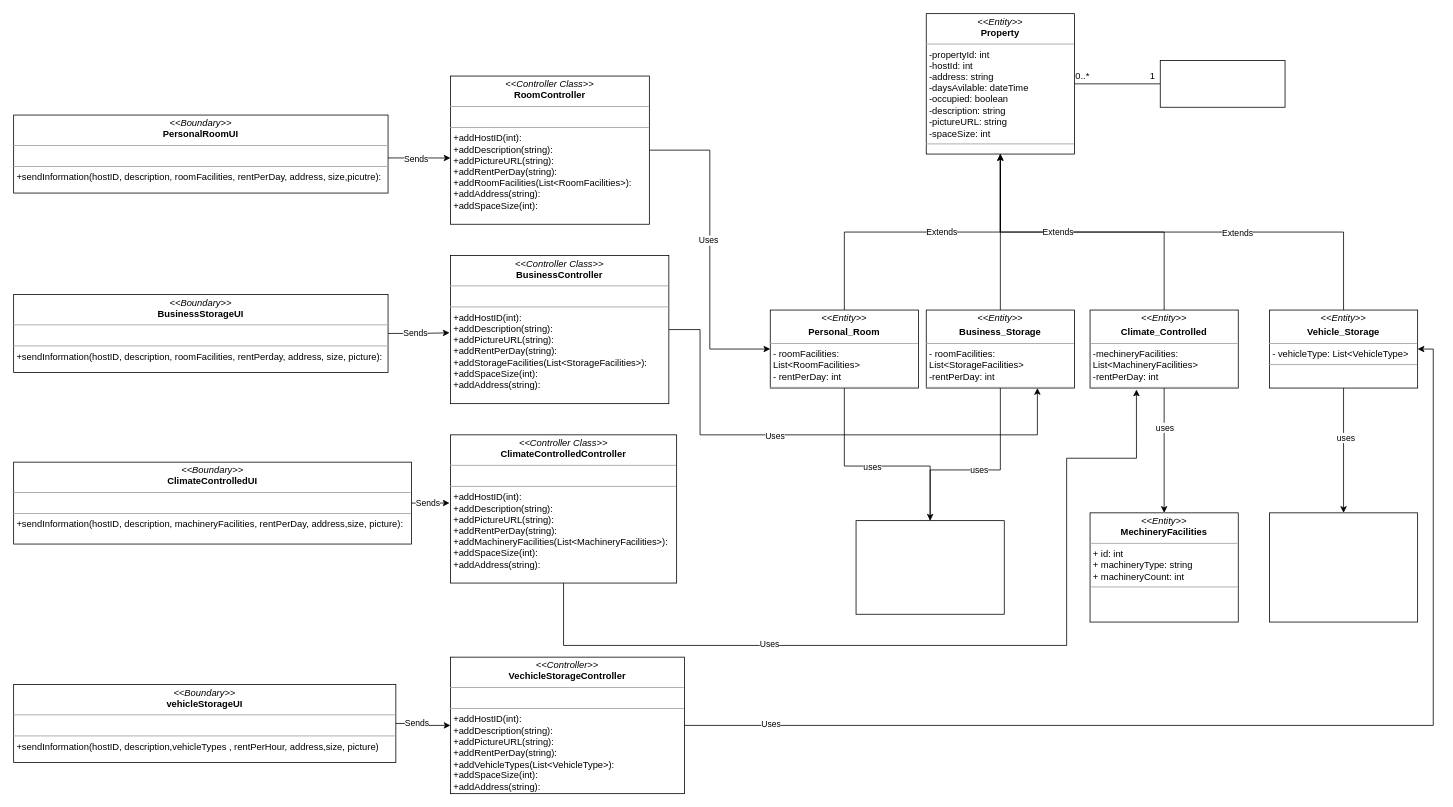
Some shapes in this 1453 by 807 pixel diagram are drawn without their labels. Here are the shapes that lost their labels. From the top down, the centre of each, then its label:
At point 1222,83: "<<Entity>> USER".
At point 929,567: "<<Entity>> RoomFacilities + id: int + roomType: string + numberOfRooms: int".
At point 1343,567: "<<Entity>> VehicleType + id: int + type: string".
